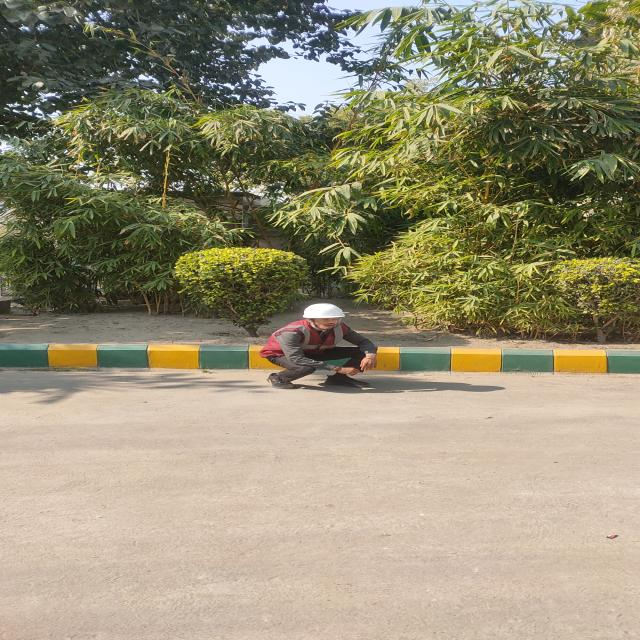safe: (259, 304, 351, 389)
